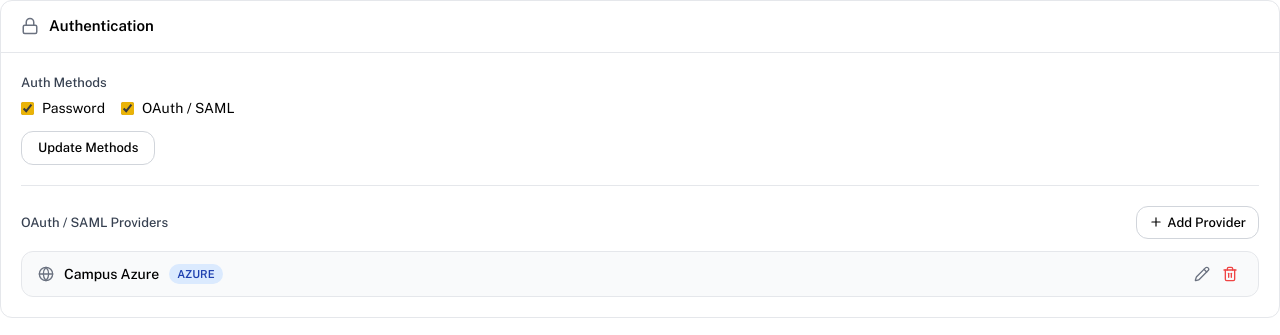
Test: AuthPanel — auth methods floor (plan 003) › re-disables the survivor once the other method is unchecked
Expected: the checkbox labelled "password" is enabled, [21,102,34,115]
What coordinates should you click on to do the following:
click the checkbox labelled "OAuth / SAML"
I would click on:
 (128, 108)
Its box is [121,102,134,115].
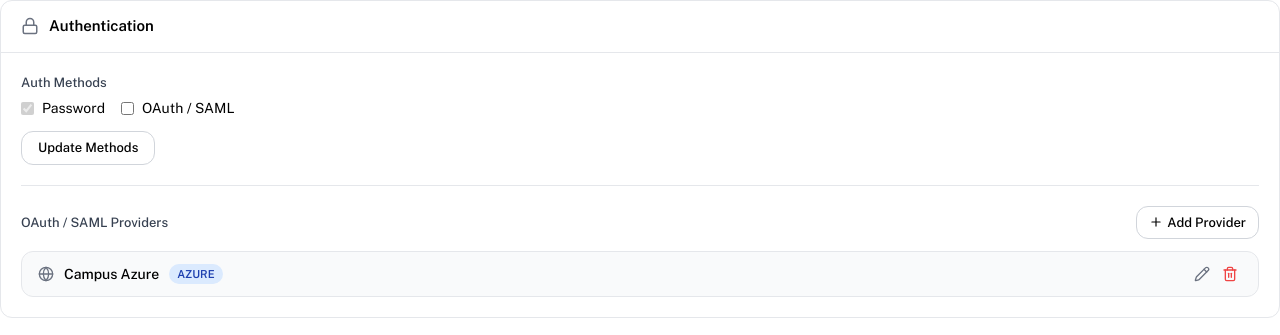
Now the checkbox labelled "password" is disabled, box [21,102,34,115]
